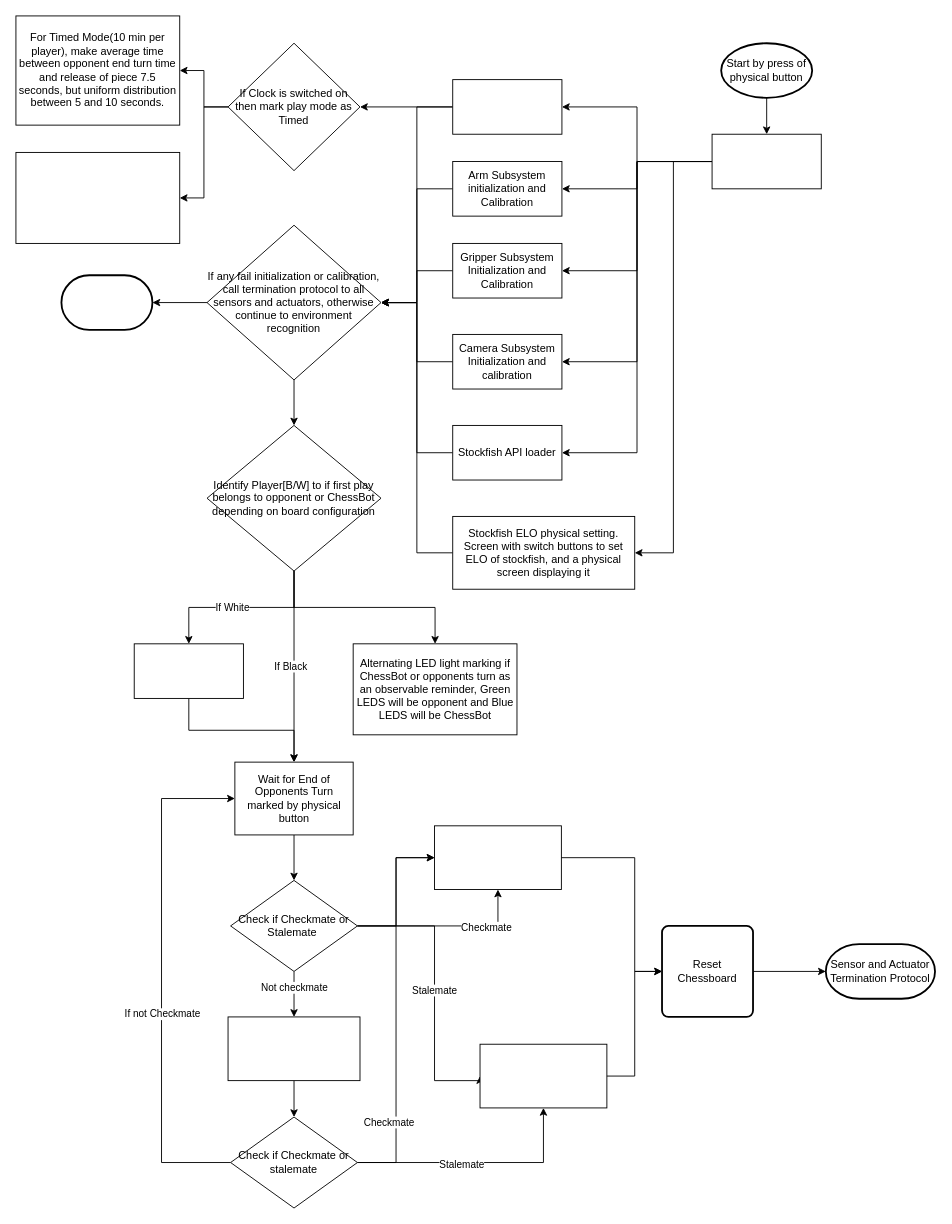
The diagram is 952 pixels wide and 1224 high, and some of its shapes have lost their labels. The shapes that lost their labels are listed below. From the top down, each one's centre as x and y in pixels, then its label:
the point at 507,106: Clock Subsystem Initialization and Calibration
the point at 766,161: All subsystems initialize and self calibrate
the point at 97,197: If not in timed mode set move time to 10 seconds
the point at 106,302: Stop
the point at 188,670: Move First
the point at 497,857: Flash LEDS corresponding to winning player for 10 seconds
the point at 293,1048: ChessBot's Move
the point at 543,1075: Flash Green and Blue LEDS Indicating a tie for 10 seconds
